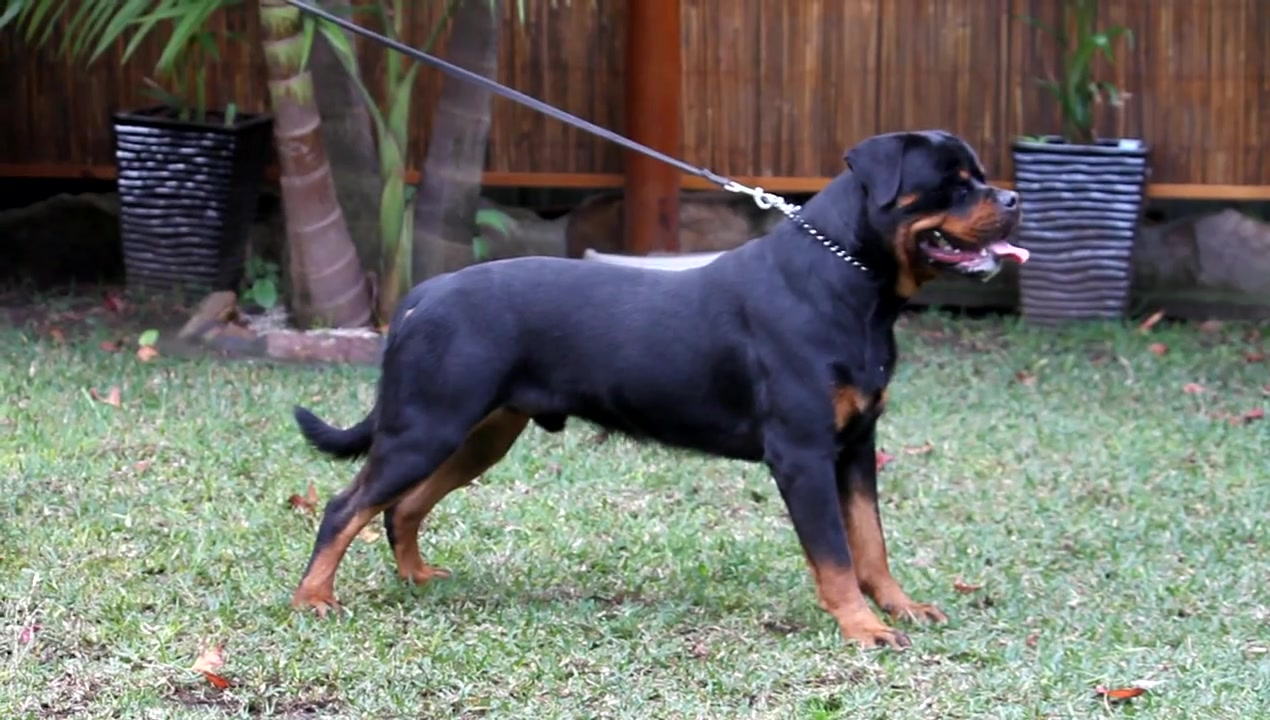dog: (295, 127, 1030, 652)
